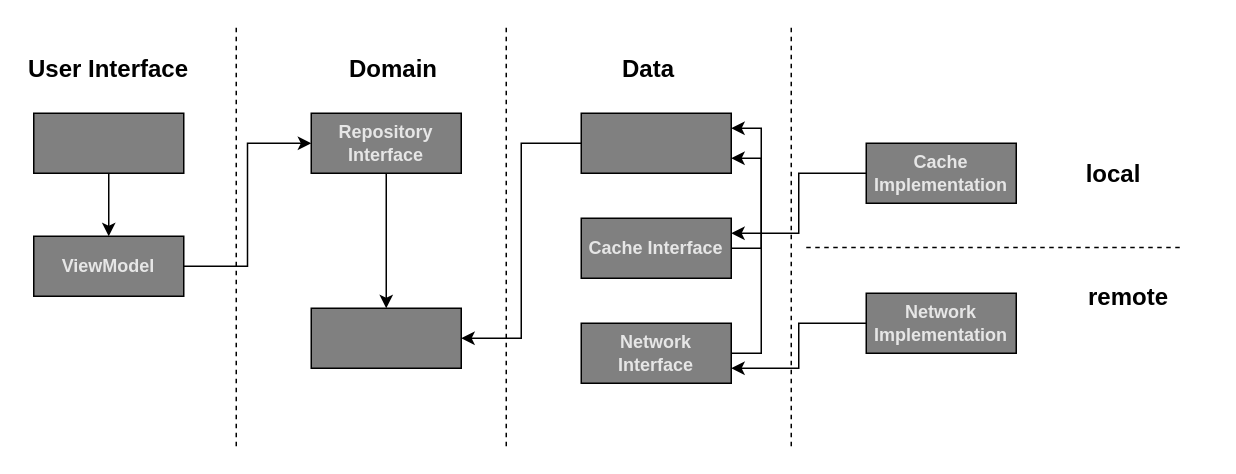
Image size: 1236x474. Some labels were removed from this diagram. Here are the shapes that lost their labels. From the top down, the box of each, then its label:
(32, 112, 184, 173): View
(580, 112, 731, 173): Repository Implementation
(310, 307, 461, 368): Model
